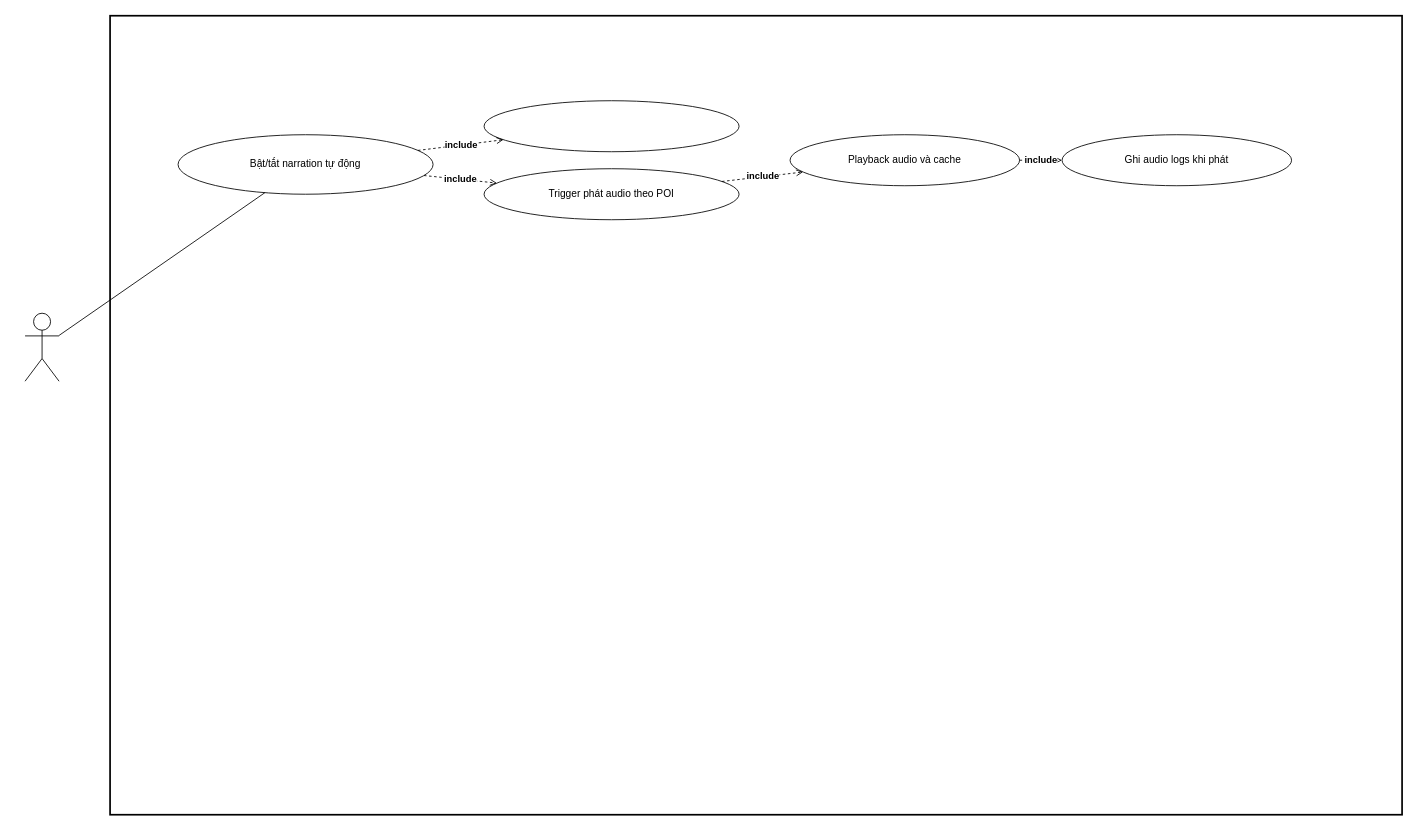
Image size: 1418x830. Some labels were removed from this diagram. The shapes that lost their labels are listed below. From the top down, each one's centre as x and y in pixels, then its label:
At (611,126): "Geofence enter/exit/switch".
At (41,346): "Người dùng".
